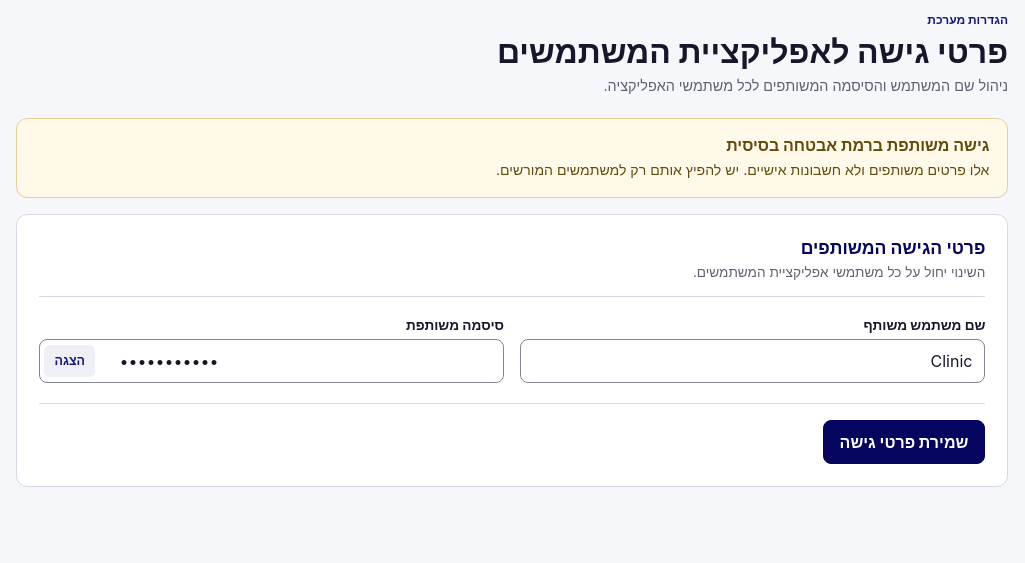
Scenario: UserAccessSettings › shows a safe error when Firestore rejects the update
The width and height of the screenshot is (1025, 563).
Expected: the field showing "Clinic" is shown, left=520, top=339, right=985, bottom=383
Click the button "שמירת פרטי גישה" at (904, 442), box left=823, top=420, right=985, bottom=464
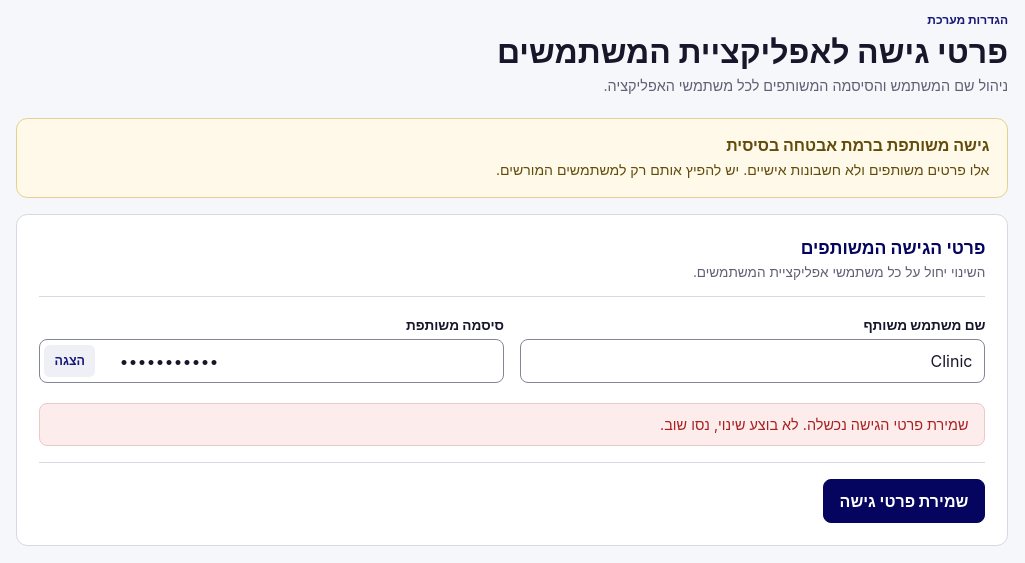
Result: the message reads "שמירת פרטי הגישה נכשלה. לא בוצע שינוי, נסו שוב." at left=660, top=416, right=968, bottom=433
